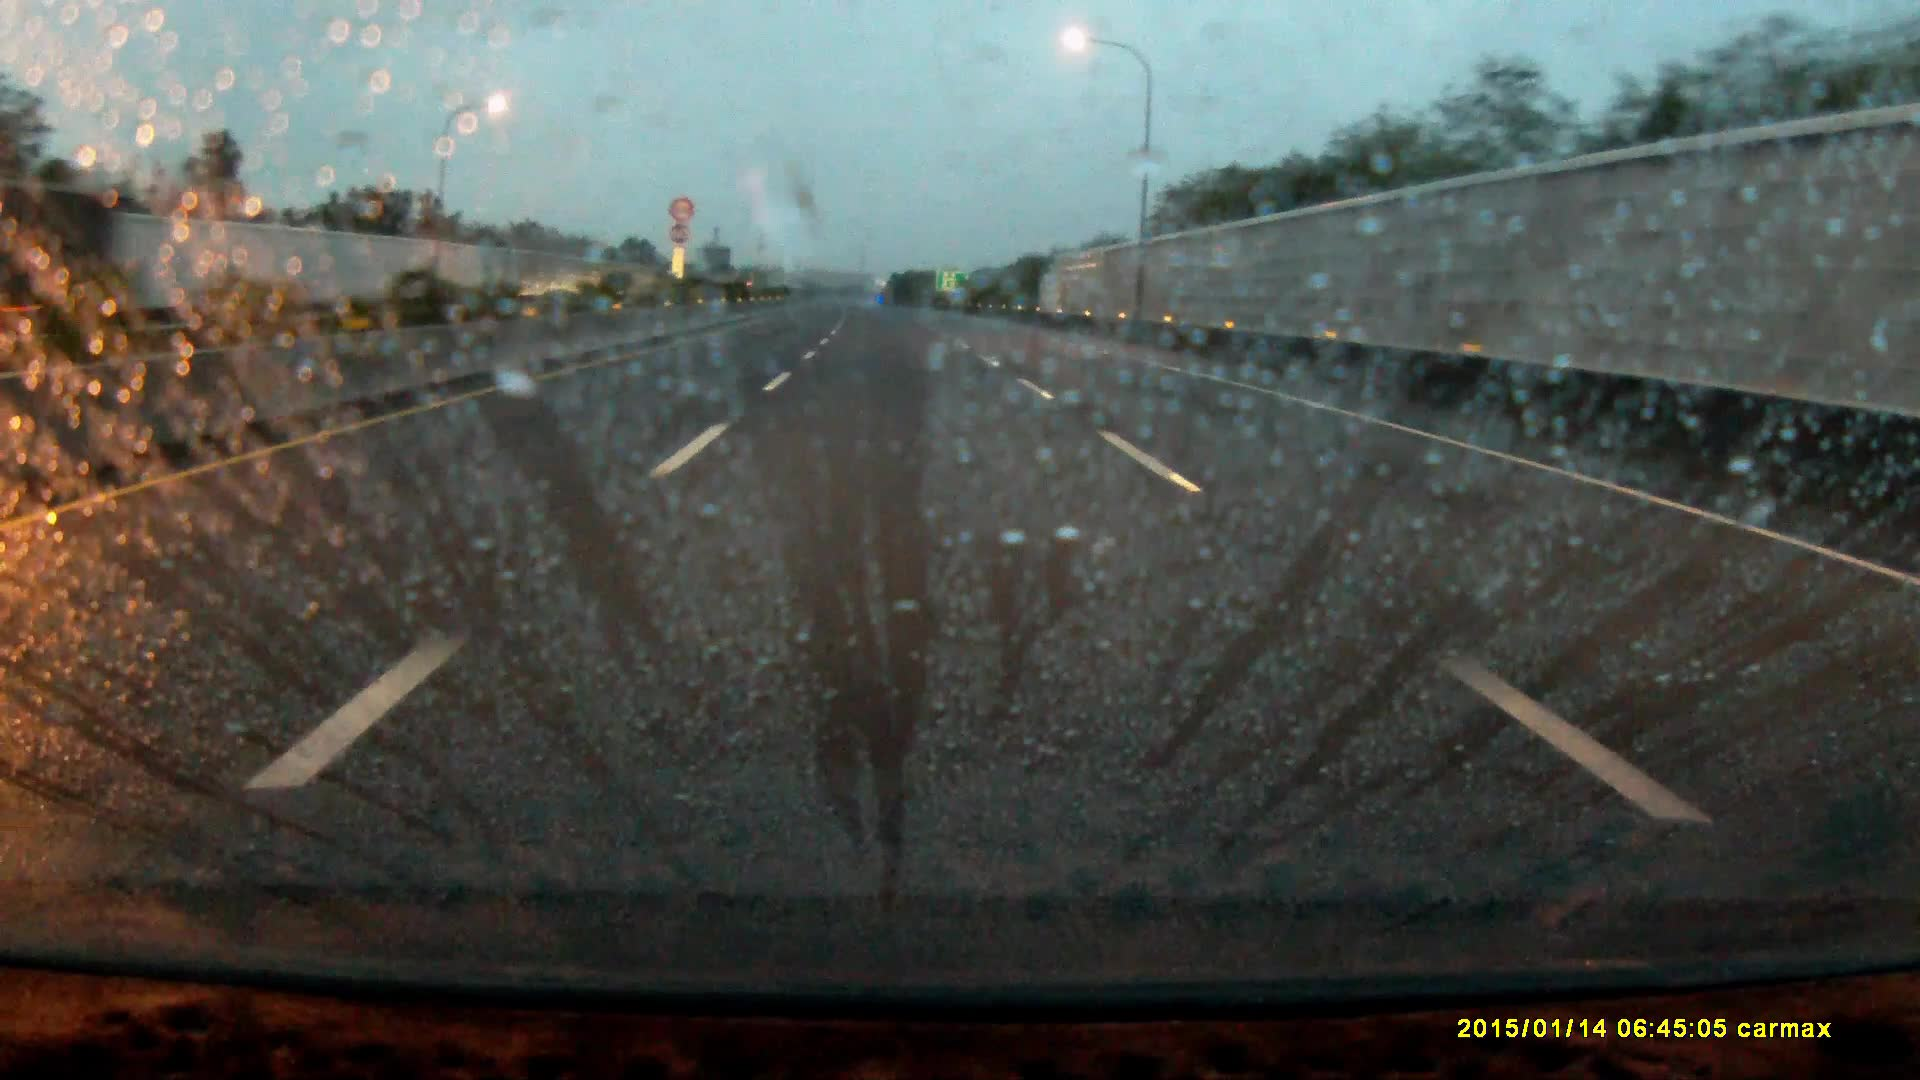vehicle: (1, 198, 117, 338)
